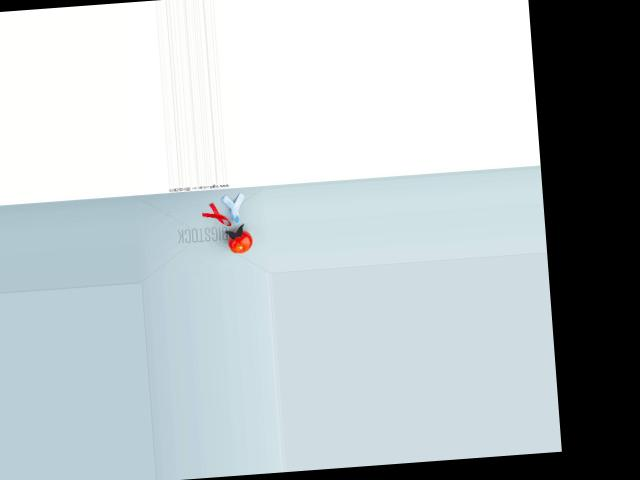tomato: (226, 229, 252, 253)
